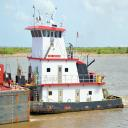tugboat: (4, 12, 127, 118)
